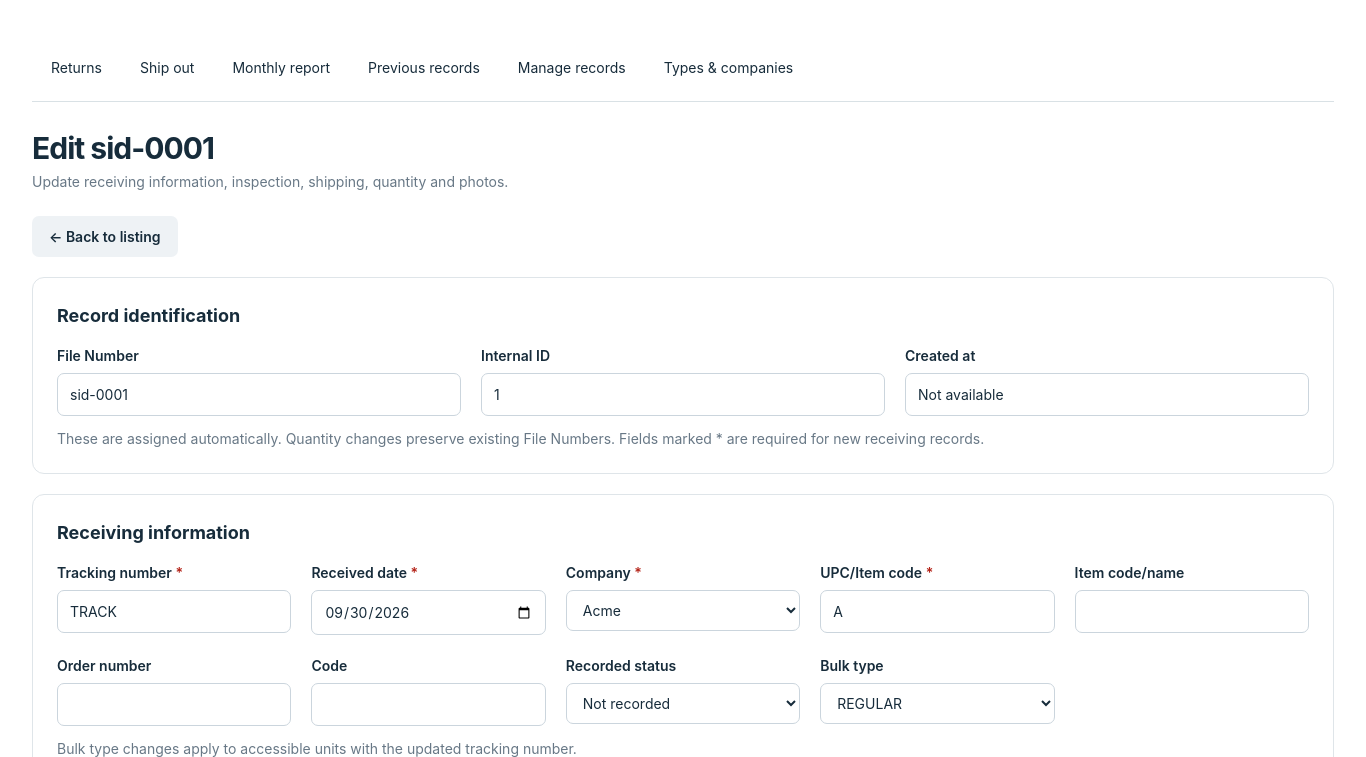
Test case: record editor saves complete receiving fields and reduces quantity only for explicitly selected units
The width and height of the screenshot is (1366, 757).
Replace the text in the field labelled "UPC/Item code" with "001234" at point(937, 612), box [820,590,1055,633]
Type "ORDER-1" into the field labelled "Order number".
click(174, 704); type("ORDER-1")  # box [57,683,291,726]
Type "PC" into the field labelled "Code".
click(429, 704); type("PC")  # box [311,683,546,726]
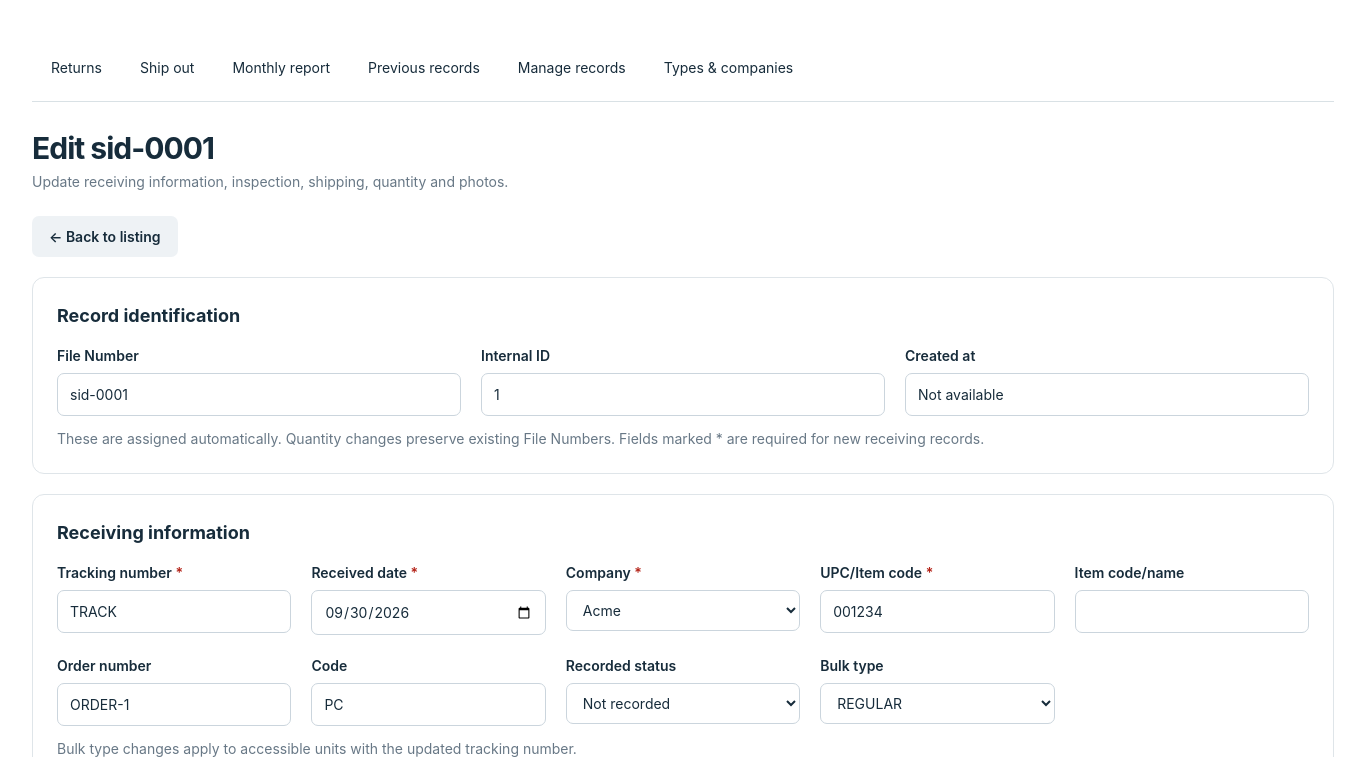
Select "Recorded" in the dropdown labelled "Recorded status" at point(683, 704), box [566,683,800,724]
(page scrolled)
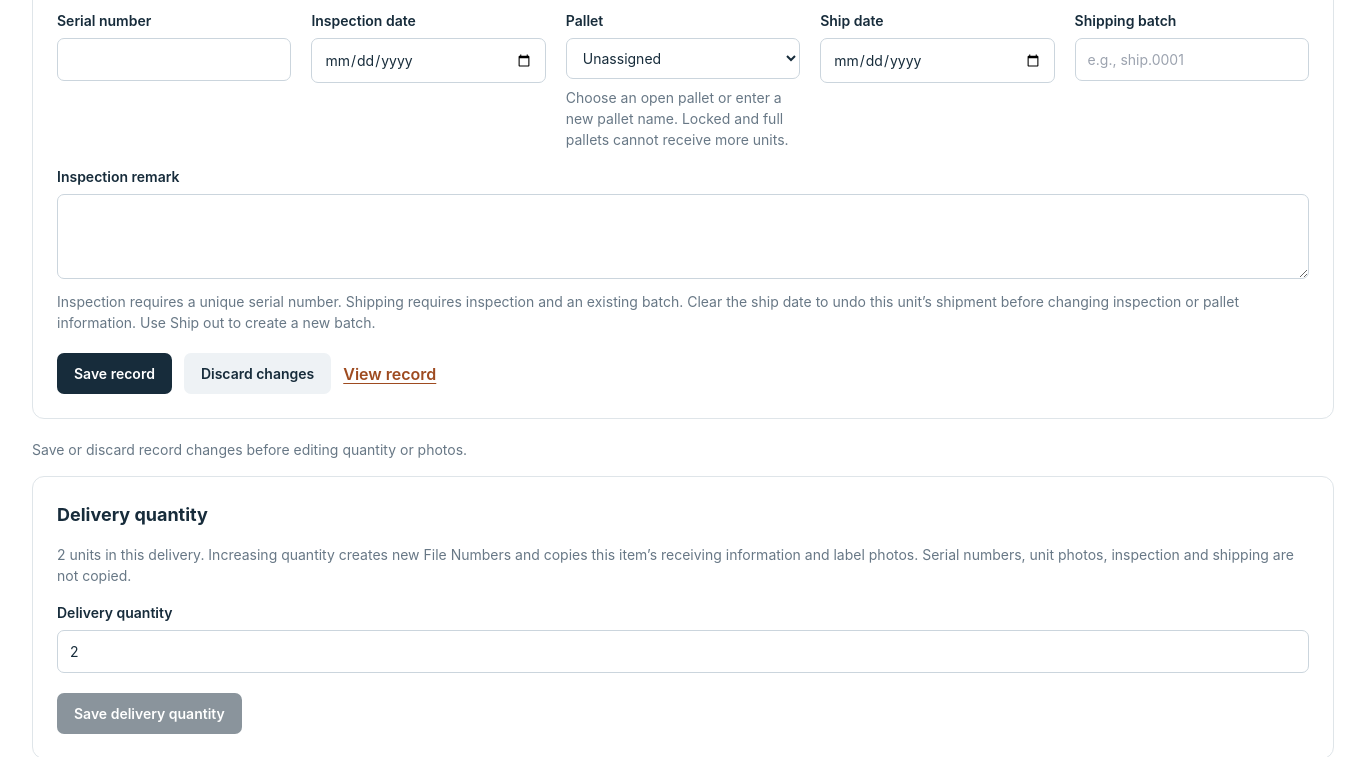
Expected: the number field labelled "Delivery quantity" is disabled, [57,630,1309,673]
Click the button "Save record".
click(114, 374)  # box [57,353,172,394]
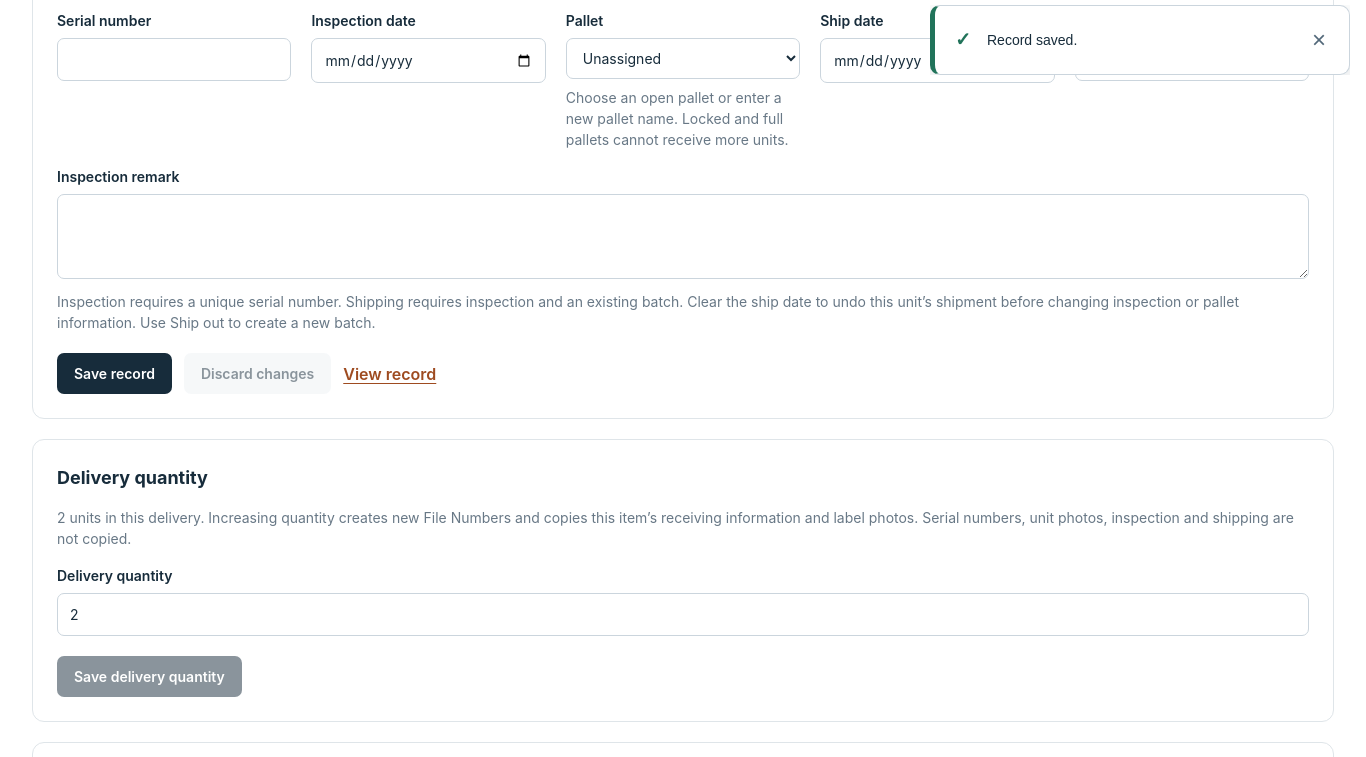
Result: the text "Record saved." is shown at [987,32,1077,48]
Replace the text in the number field labelled "Delivery quantity" with "1" at point(683, 614), box [57,593,1309,636]
(page scrolled)
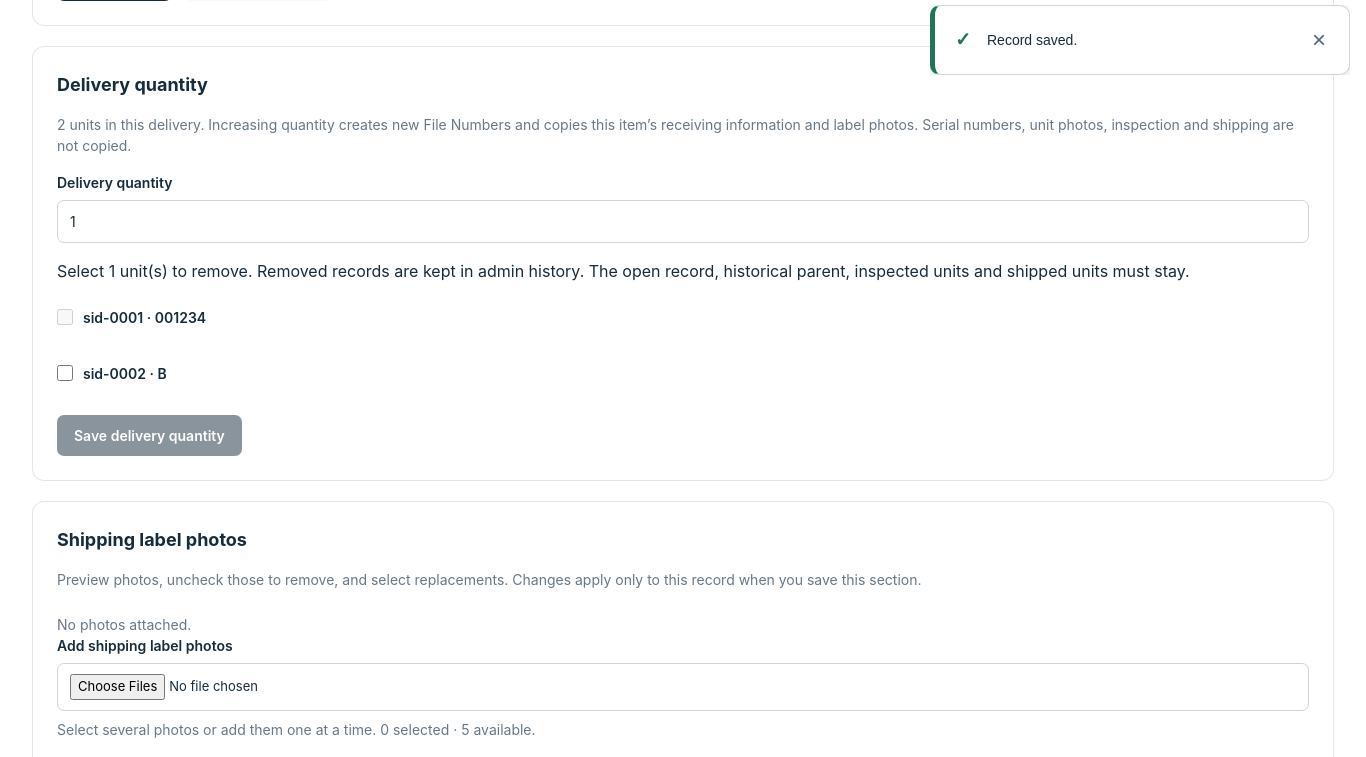
Expected: the button "Save delivery quantity" is disabled, [57,415,242,456]
Result: the checkbox labelled "sid-0001 · 001234" is disabled at [57,309,73,325]
Click the checkbox labelled "sid-0002 · B".
click(65, 373)  # box [57,365,73,381]
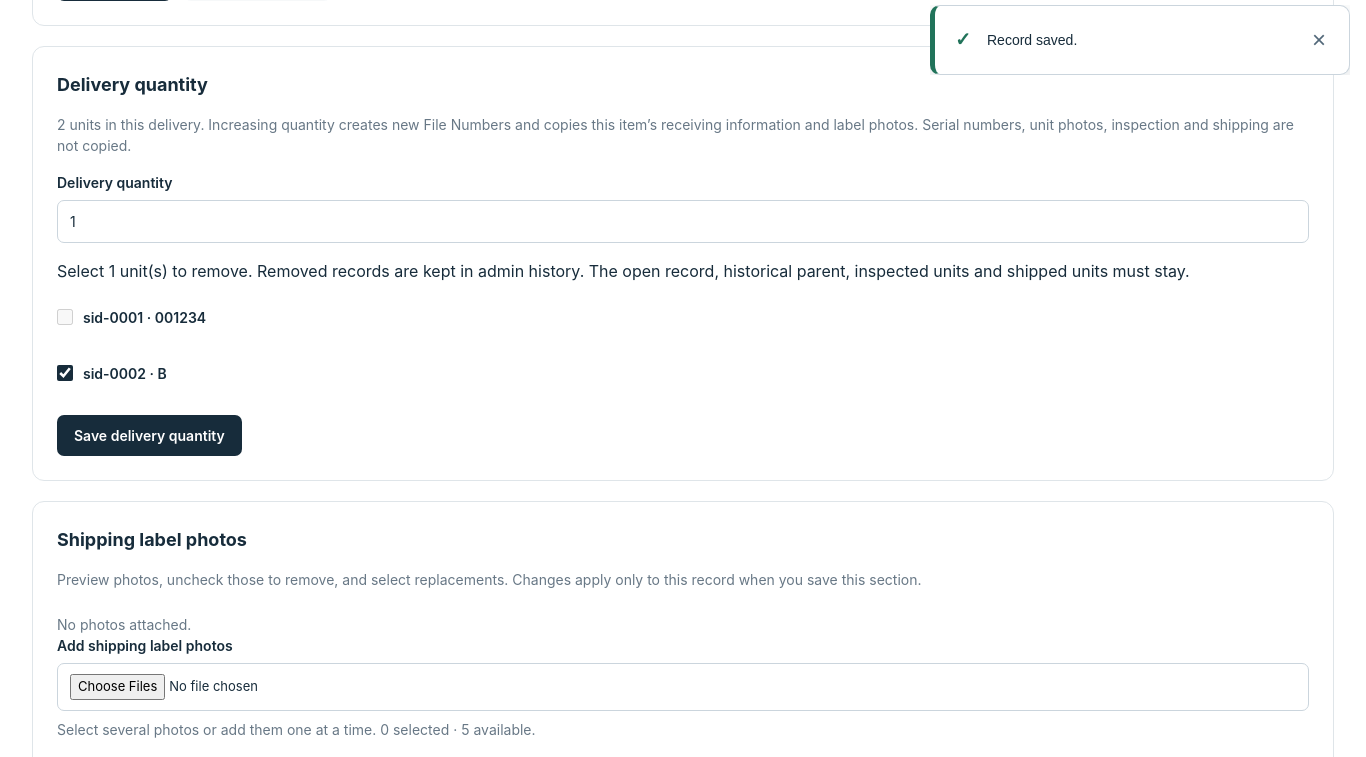
Click the button "Save delivery quantity".
click(149, 436)  # box [57,415,242,456]
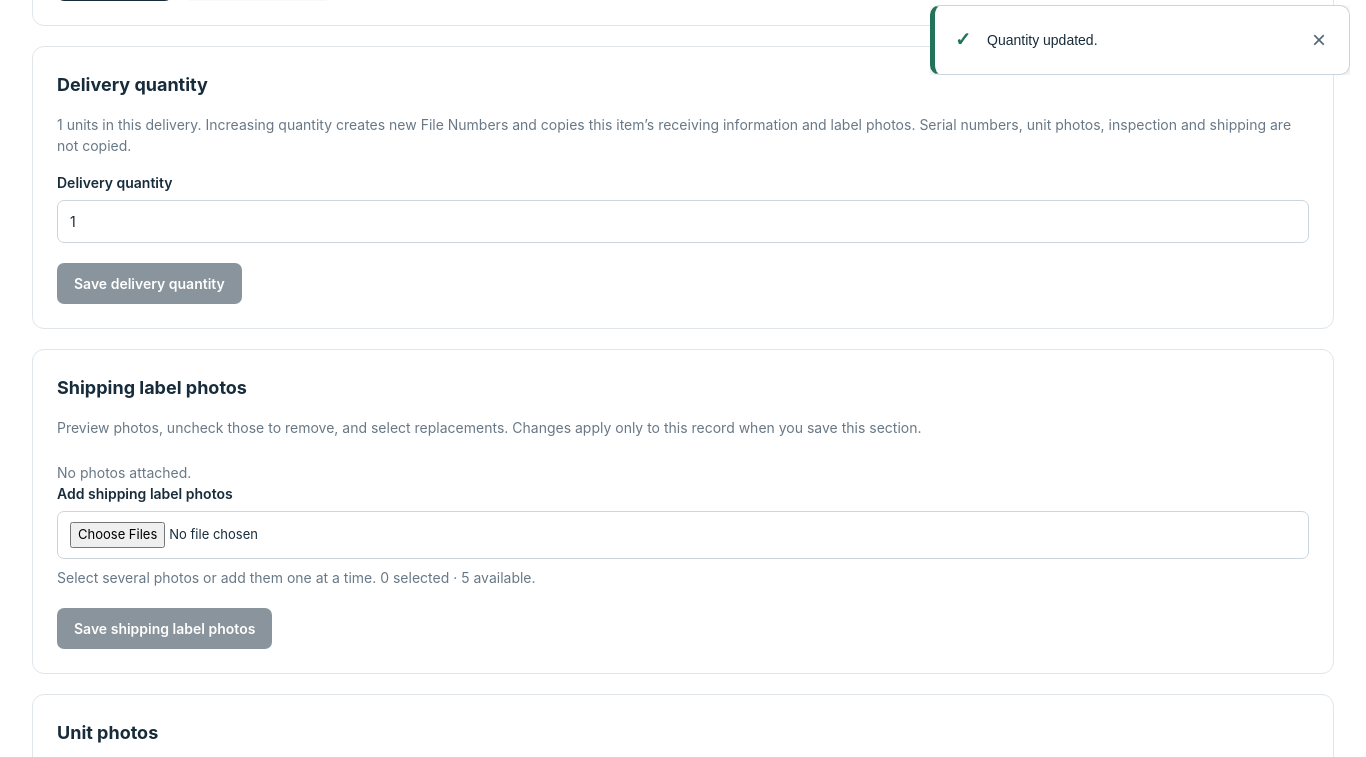
Result: the text "Quantity updated." is shown at [987,32,1098,48]
